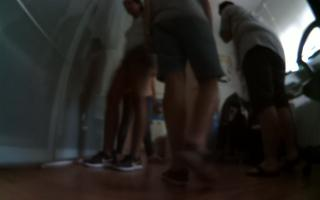person: (215, 1, 307, 181), (146, 1, 220, 197), (84, 1, 150, 173), (121, 67, 156, 168)
